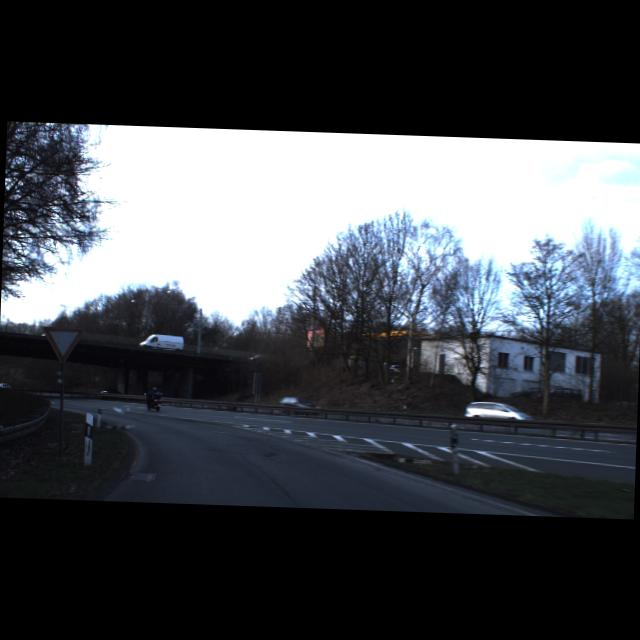other: (42, 326, 84, 364)
